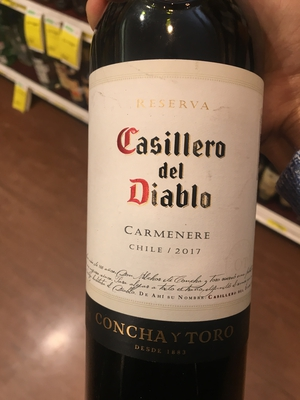casillero del diablo carmenere: (79, 8, 268, 400)
